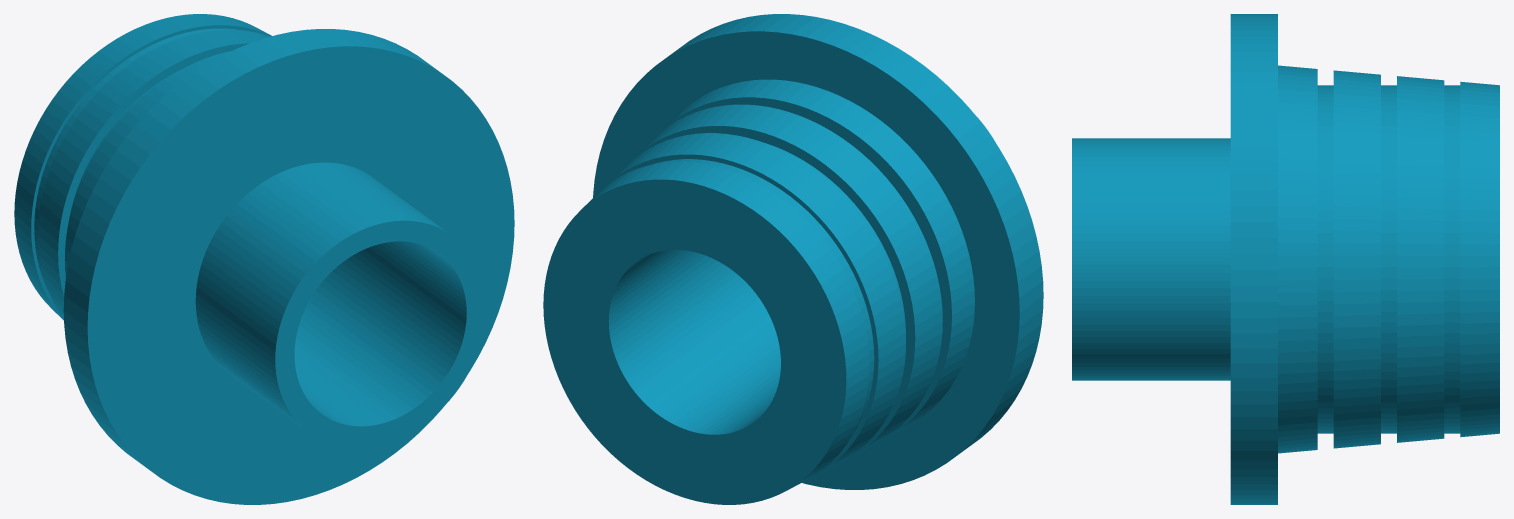
Rendered from agua_boquilla.glb.
3 renders of one model, left to right at view 1: azimuth 30°, elevation 25°; view 2: azimuth 150°, elevation 25°; view 3: azimuth 270°, elevation 25°, orthographic.
Visible parts, largest first — view 1: world; view 2: world; view 3: world.
Boxes of the visible parts, box(x1,y1,x2,y2) form: world: box(14, 14, 514, 504); world: box(543, 14, 1043, 504); world: box(1072, 14, 1499, 504).
Size of the model in its own units: 62 by 62 by 54.
